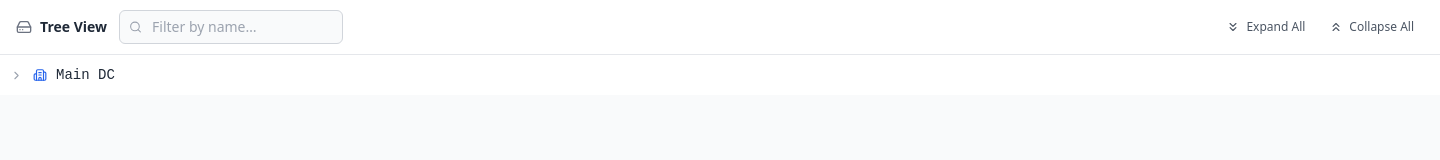
it: TreeView page › shows 'No rooms' hint when datacenter has no rooms
Expected: the text "Main DC" is shown, [56, 67, 115, 83]
Click the button named "Expand": point(16, 75) [6, 65, 26, 85]
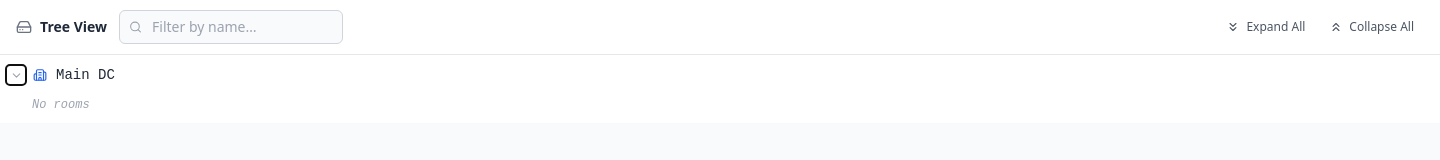
Expected: the text "No rooms" is shown, [32, 98, 90, 112]
